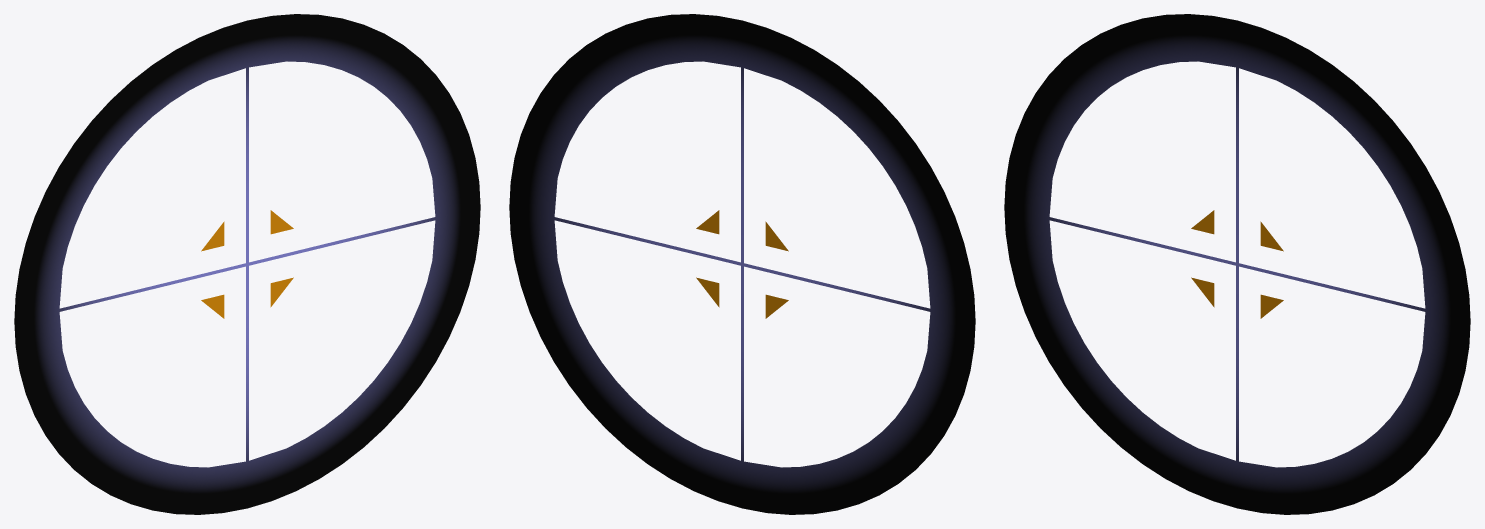
File: nav_ring.glb
The picture shows the model from 3 angles, left to right: view 1: azimuth 30°, elevation 25°; view 2: azimuth 150°, elevation 25°; view 3: azimuth 330°, elevation 25°; orthographic projection.
Parts seen in each view (by area): view 1: Plane; view 2: Plane; view 3: Plane.
Boxes of the visible parts, box(x1,y1,x2,y2) form: Plane: box(14, 14, 480, 514); Plane: box(509, 14, 975, 514); Plane: box(1004, 14, 1470, 514).
Size of the model in its own units: 2 by 2 by 8.74e-08.
1 material, 1 textured.
